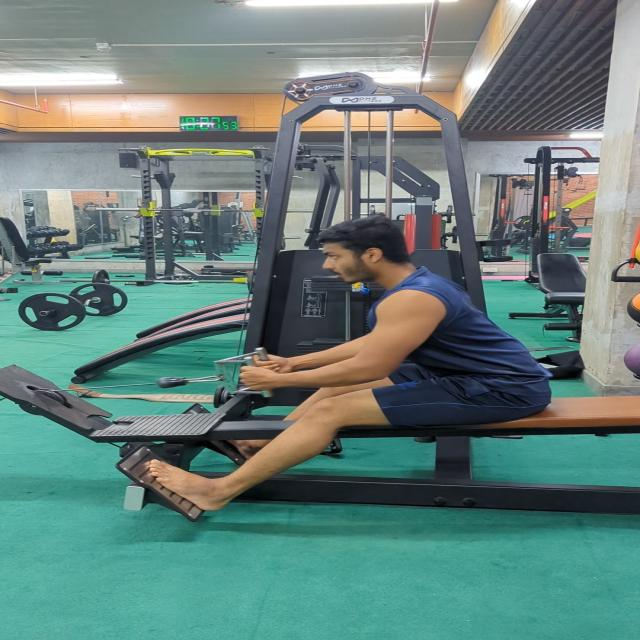Normal_RowingMachineExercise: (144, 212, 555, 512)
